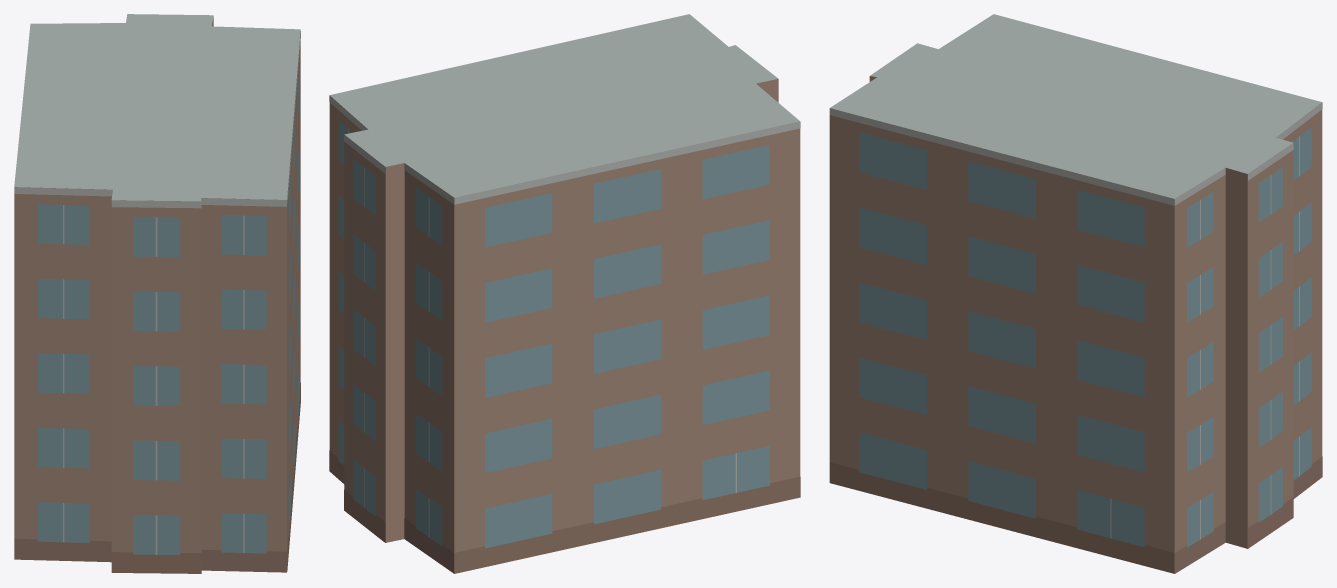
File: survey-upis-32512695.glb
3 renders of one model, left to right at view 1: azimuth 30°, elevation 25°; view 2: azimuth 150°, elevation 25°; view 3: azimuth 270°, elevation 25°, orthographic.
Visible parts, largest first — view 1: survey-upis-32512695.tmp; view 2: survey-upis-32512695.tmp; view 3: survey-upis-32512695.tmp.
Boxes of the visible parts, x1,y1,x2,y2 form: survey-upis-32512695.tmp: (14,14,300,573); survey-upis-32512695.tmp: (329,14,800,573); survey-upis-32512695.tmp: (829,14,1322,573).
Bounding box in the file's own units: 13.97 × 13.2 × 15.73.
